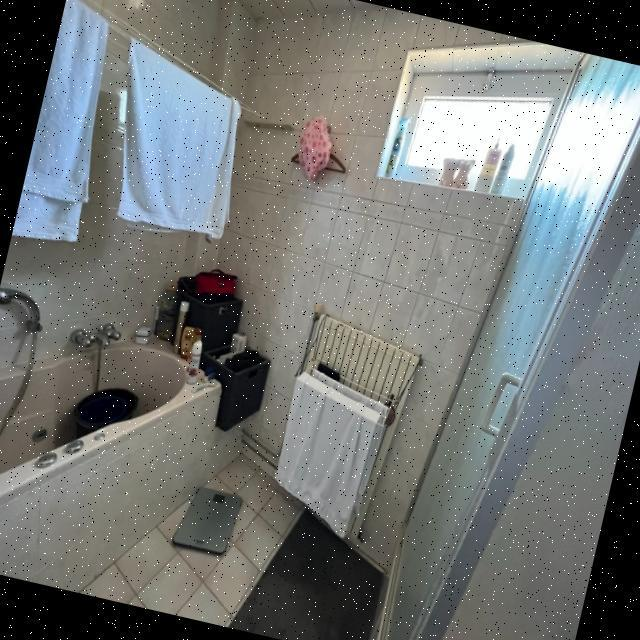bath: (0, 297, 231, 555)
douche: (367, 35, 640, 640)
